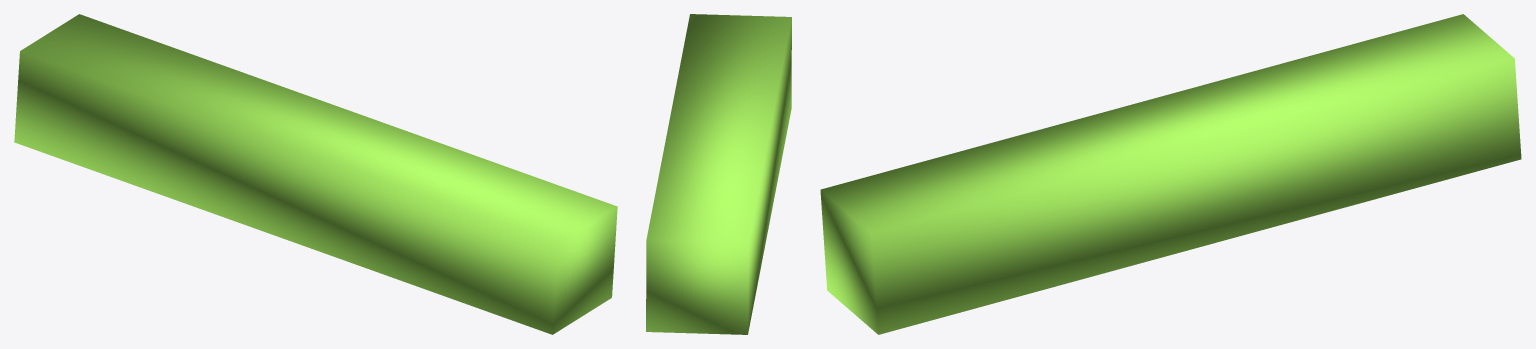
The model's file is original-17.obj.
3 renders of one model, left to right at view 1: azimuth 30°, elevation 25°; view 2: azimuth 150°, elevation 25°; view 3: azimuth 270°, elevation 25°, orthographic. The views are drawn at different scales.
Parts seen in each view (by area): view 1: mesh18/mesh18-geometry#mesh18-geometry; view 2: mesh18/mesh18-geometry#mesh18-geometry; view 3: mesh18/mesh18-geometry#mesh18-geometry.
Boxes of the visible parts, x1,y1,x2,y2 form: mesh18/mesh18-geometry#mesh18-geometry: [14, 14, 617, 334]; mesh18/mesh18-geometry#mesh18-geometry: [646, 14, 791, 334]; mesh18/mesh18-geometry#mesh18-geometry: [820, 14, 1521, 334].
Bounding box in the file's own units: 0.0437 × 0.0166 × 0.0726.
